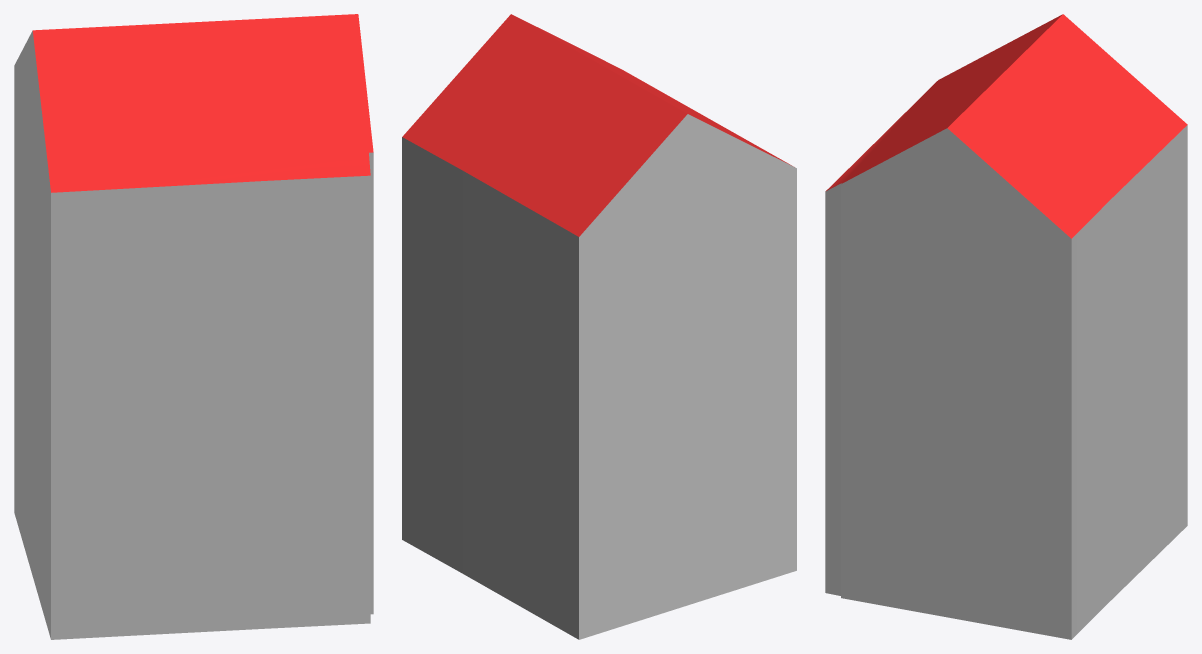
The model's file is DEBY_LOD2_4907153.dae.
3 renders of one model, left to right at view 1: azimuth 30°, elevation 25°; view 2: azimuth 150°, elevation 25°; view 3: azimuth 270°, elevation 25°, orthographic. The views are drawn at different scales.
Bounding box in the file's own units: 16.57 × 15.95 × 23.75.
